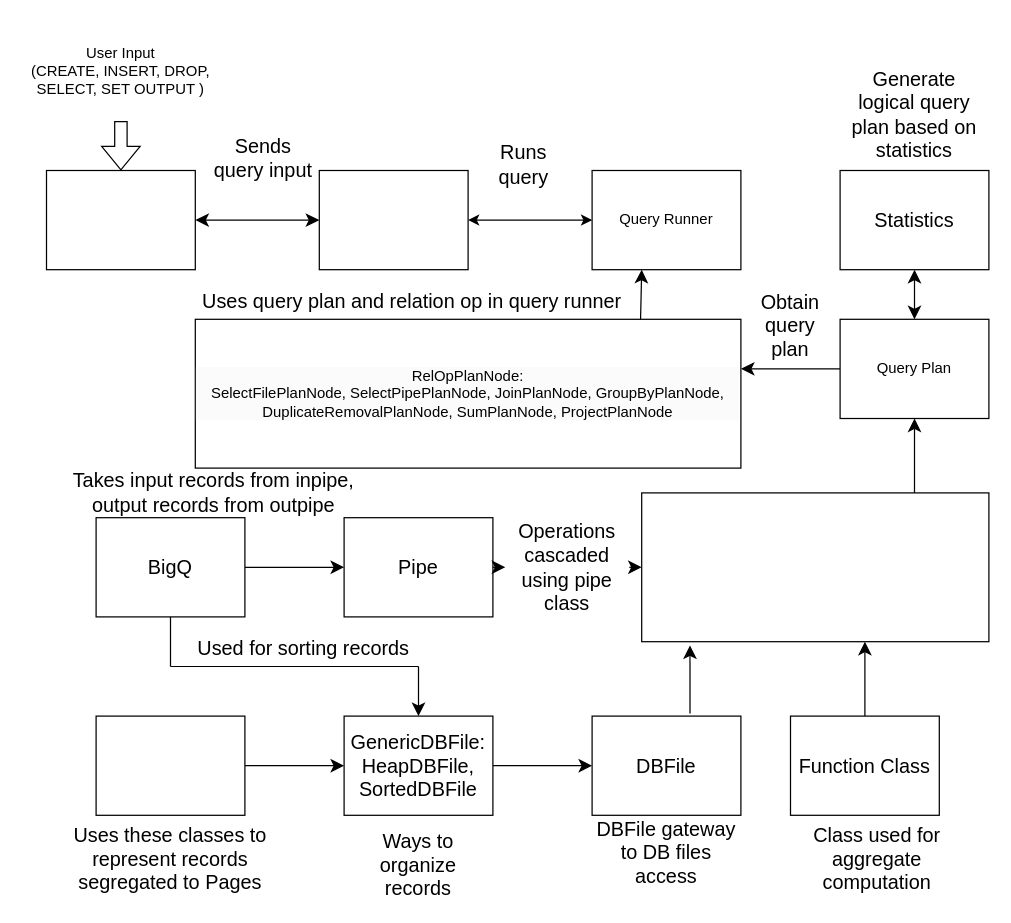
Some shapes in this 1011 by 923 pixel diagram are drawn without their labels. Each missing label, with the centre of its shape:
Command Line User Interface: the point at 120,219
Database: the point at 393,219
File, Page, Record classes: the point at 170,765
RelOp: SelectFile, SelectPipe, Join, GroupBy, DuplicateRemoval, Sum, Project: the point at 814,567
